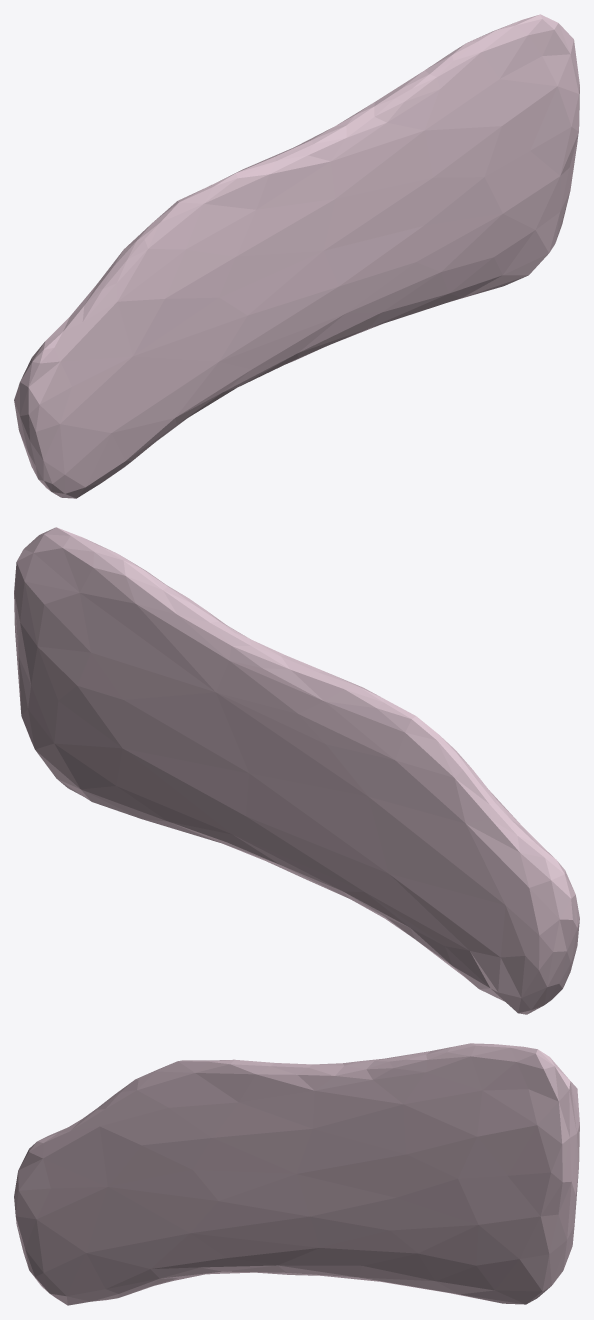
3 renders of one model, top to bottom at view 1: azimuth 30°, elevation 25°; view 2: azimuth 150°, elevation 25°; view 3: azimuth 330°, elevation 25°, orthographic.
Visible parts, largest first — view 1: 206.obj; view 2: 206.obj; view 3: 206.obj.
Boxes of the visible parts, bbox=[...] form: 206.obj: bbox=[14, 14, 579, 498]; 206.obj: bbox=[14, 527, 579, 1014]; 206.obj: bbox=[14, 1043, 579, 1305].
Bounding box in the file's own units: 1634 × 1030 × 147.
